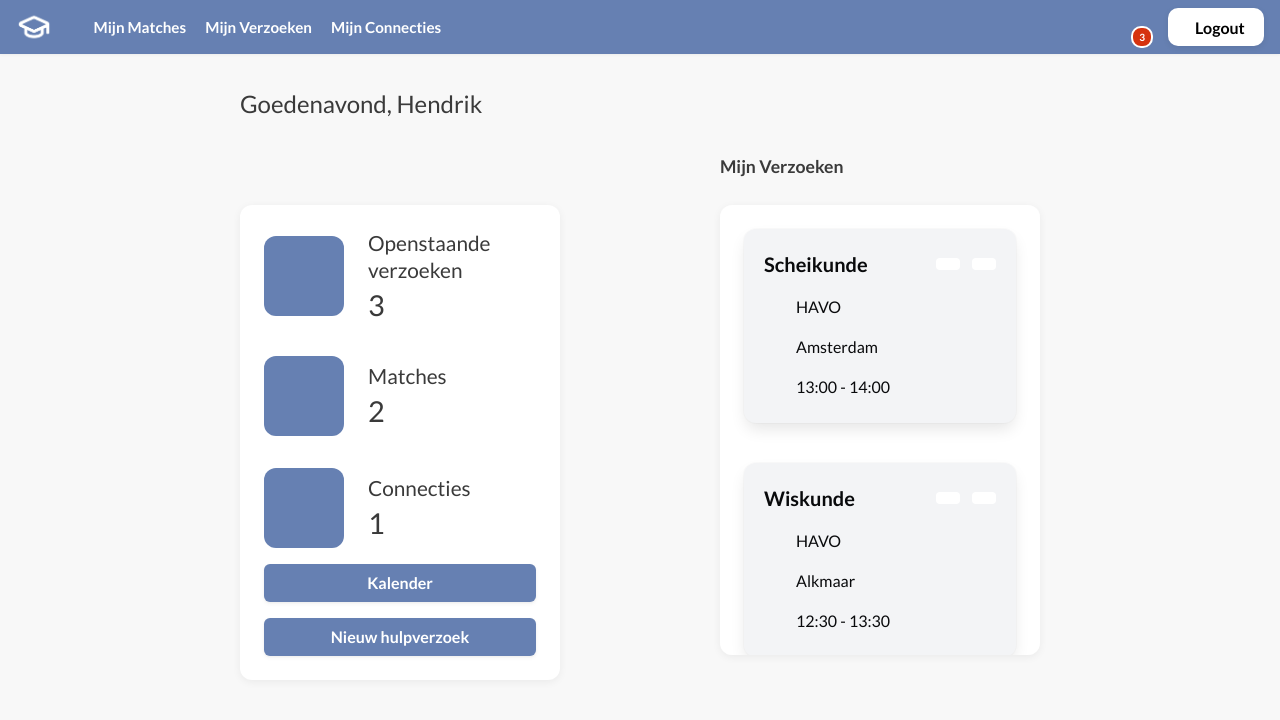
StudentRequest › closes logout modal
This screenshot has width=1280, height=720.
Click the button "Logout": {"x": 1216, "y": 27} x1=1168 y1=8 x2=1264 y2=46
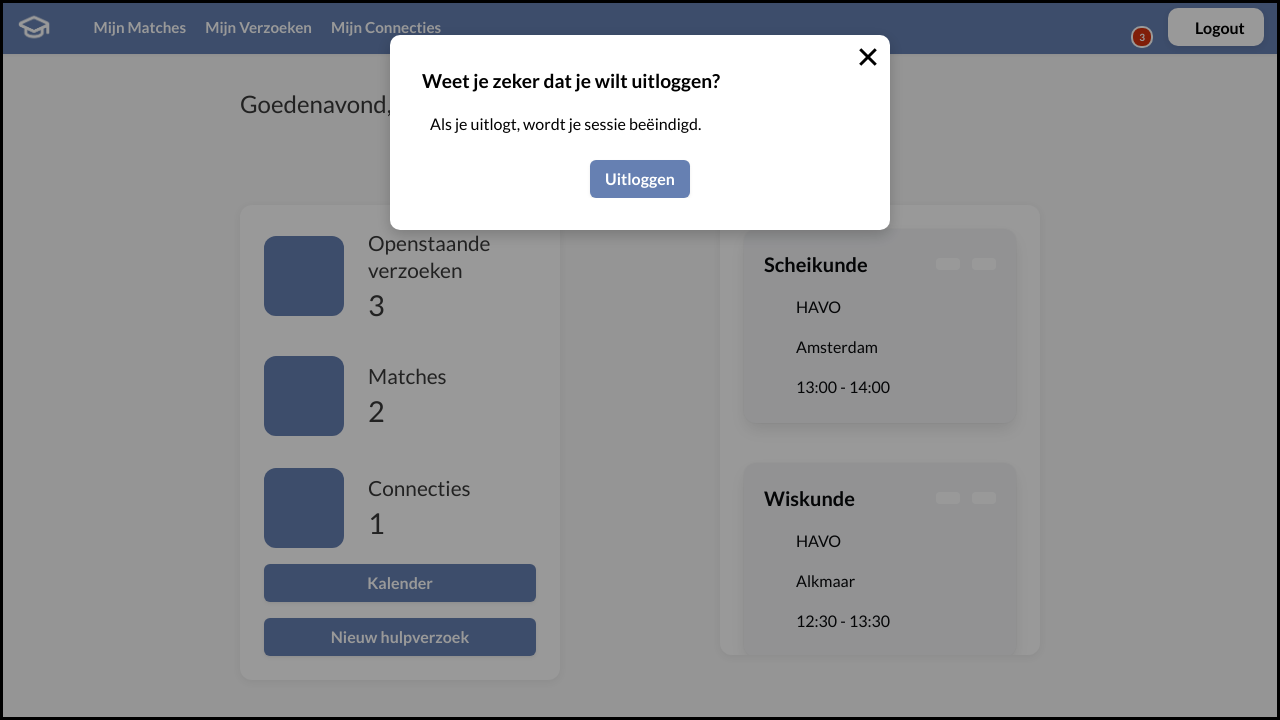
Result: the button with class "modal-close" is shown
Click the button with class "modal-close": {"x": 868, "y": 57} x1=858 y1=47 x2=878 y2=67
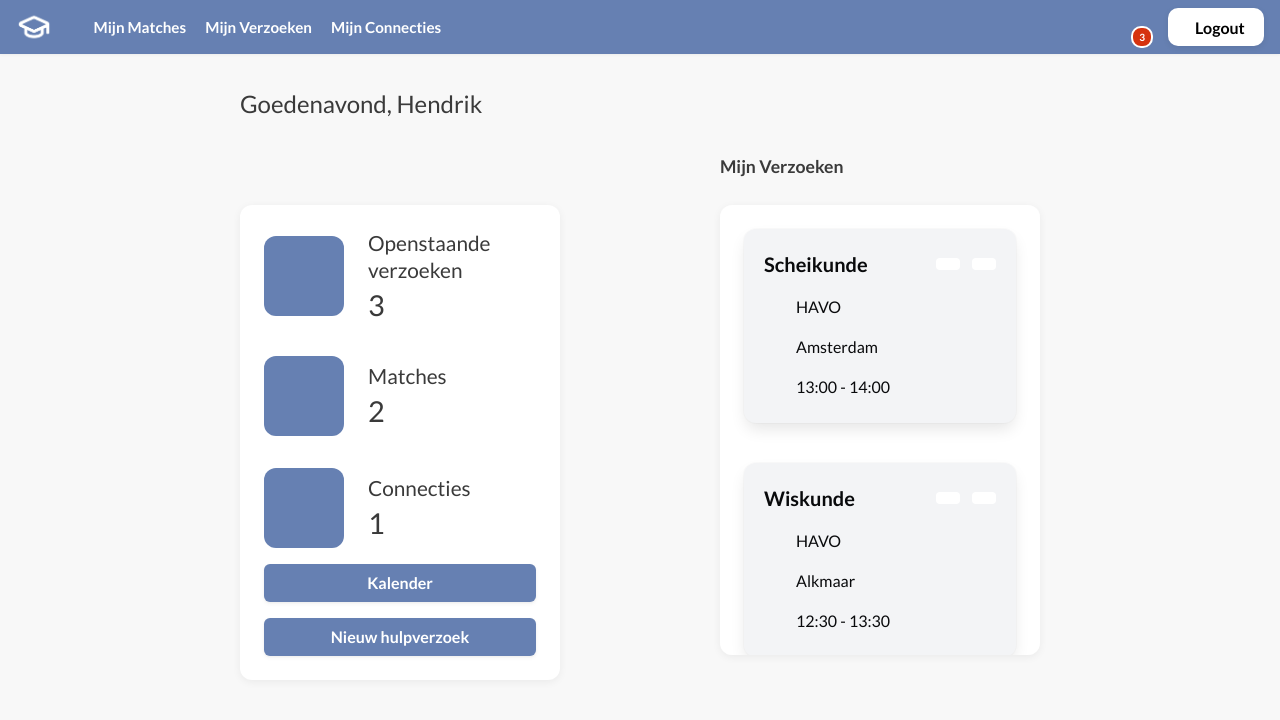
Result: the heading "Weet je zeker dat je wilt uitloggen?" is gone
